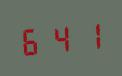four: (47, 21, 74, 54)
one: (75, 18, 102, 52)
six: (18, 23, 45, 57)
